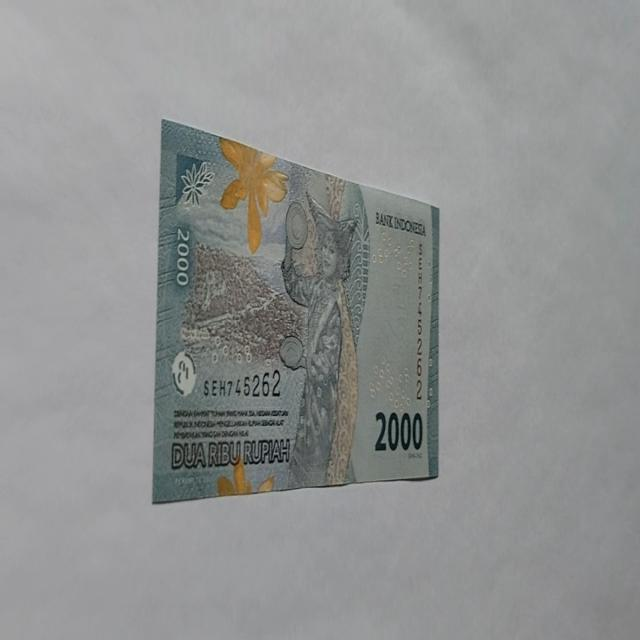dua ribu rupiah: (152, 120, 440, 502), (278, 188, 359, 489), (218, 135, 289, 255)
